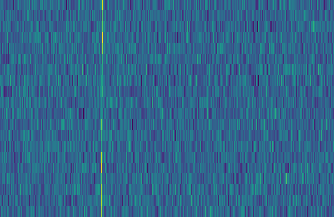signal: (95, 0, 105, 217)
